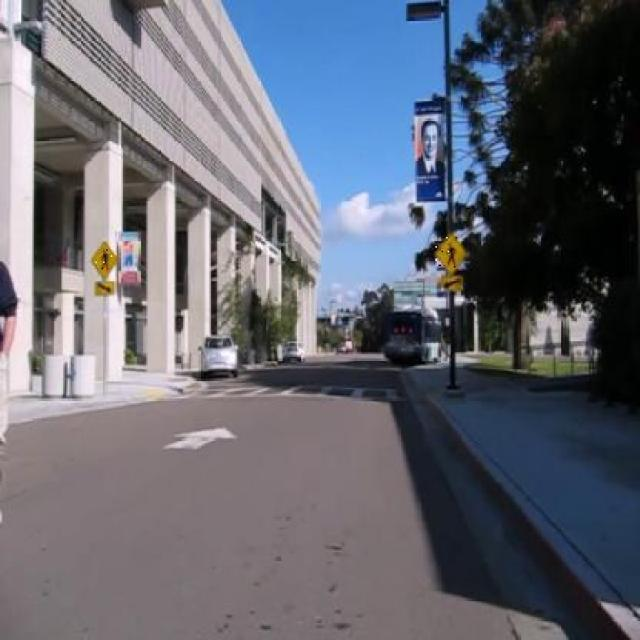pedestrianCrossing: (434, 232, 467, 276), (90, 238, 118, 280)
